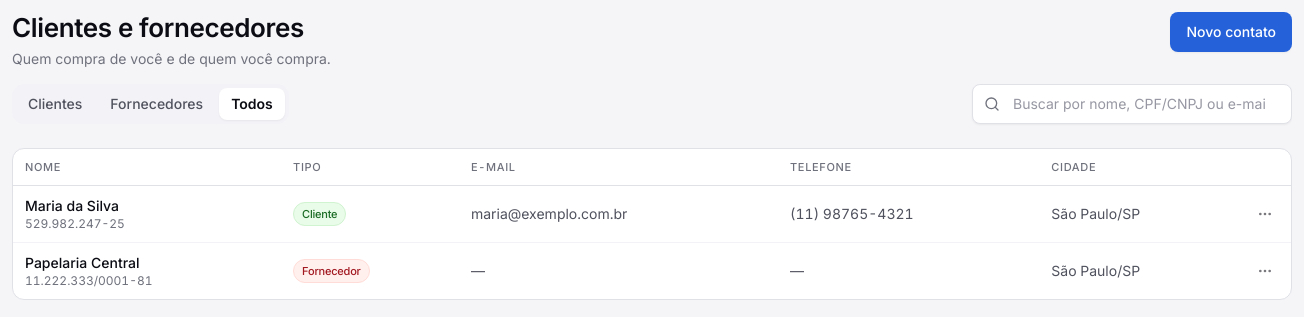
Test: ContatosListaPage › filtra por aba (?tipo) e por busca com debounce (?q)
Expected: the link "Maria da Silva" is shown, [25,197,119,214]
Click the tab "Fornecedores" at coordinates (157, 104), box [98,88,215,120]
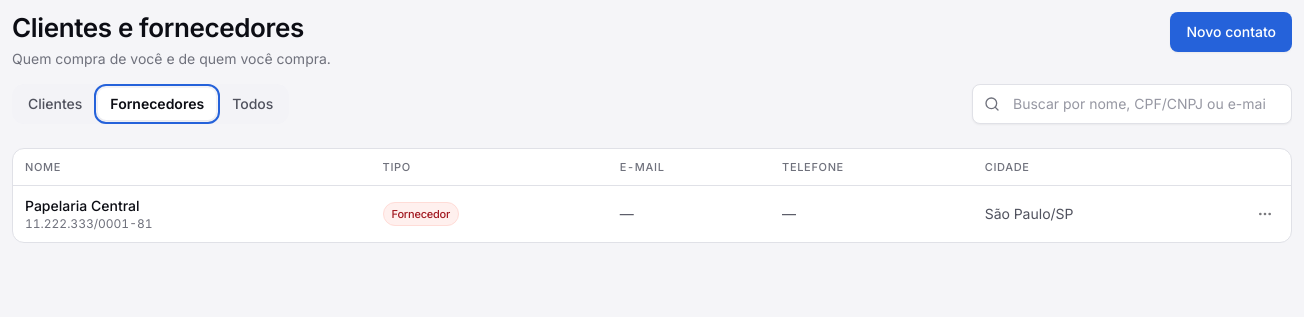
Expected: the link "Papelaria Central" is shown, [25,197,140,214]
Now the link "Maria da Silva" is gone
Click the tab "Todos" at coordinates (253, 104), box [220,88,285,120]
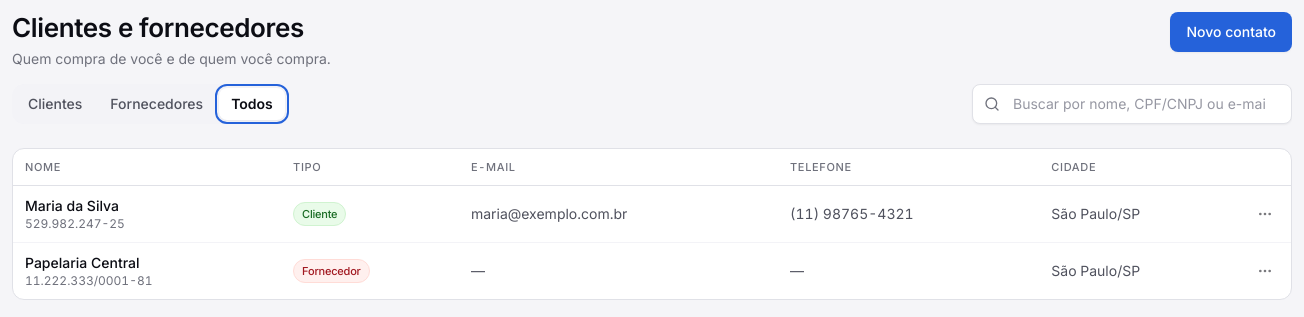
Type "pape" into the search field named "Buscar contatos" at coordinates (1132, 104), box [972,84,1292,124]
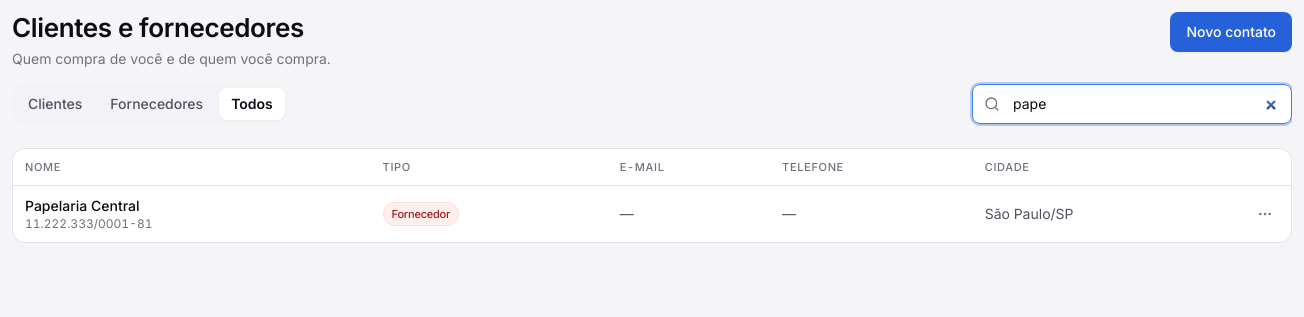
Now the link "Maria da Silva" is gone
